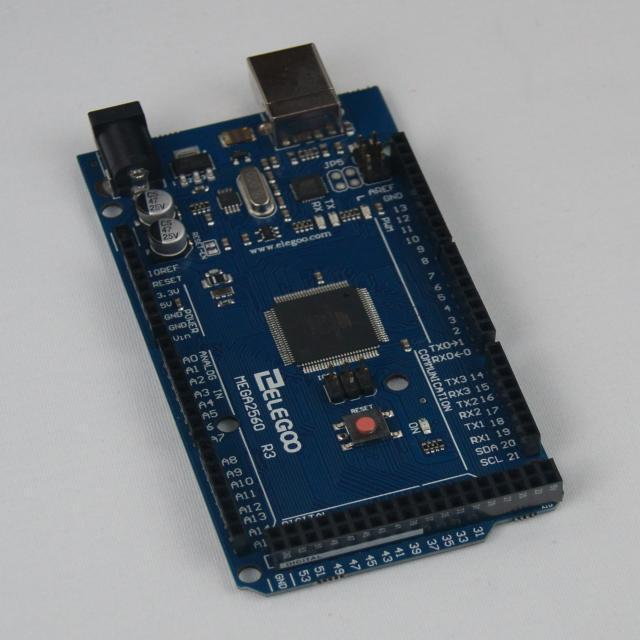Arduino Mega 2560 -Blue-: (80, 45, 563, 594)
